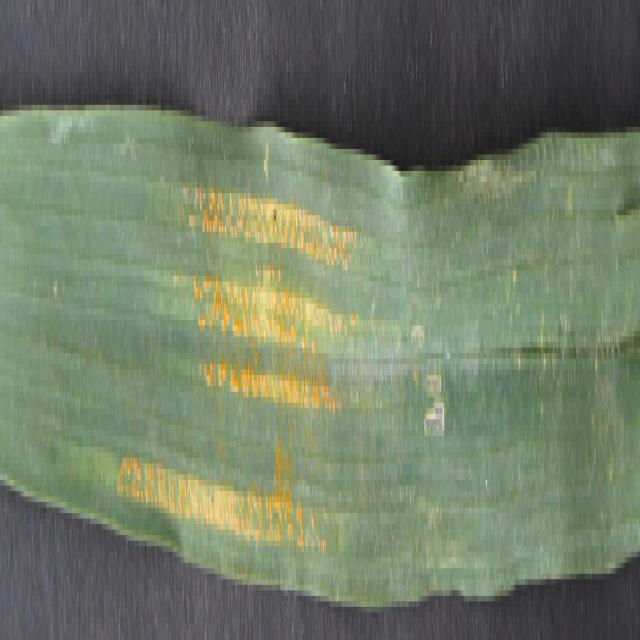leaf rust: (113, 116, 360, 579)
